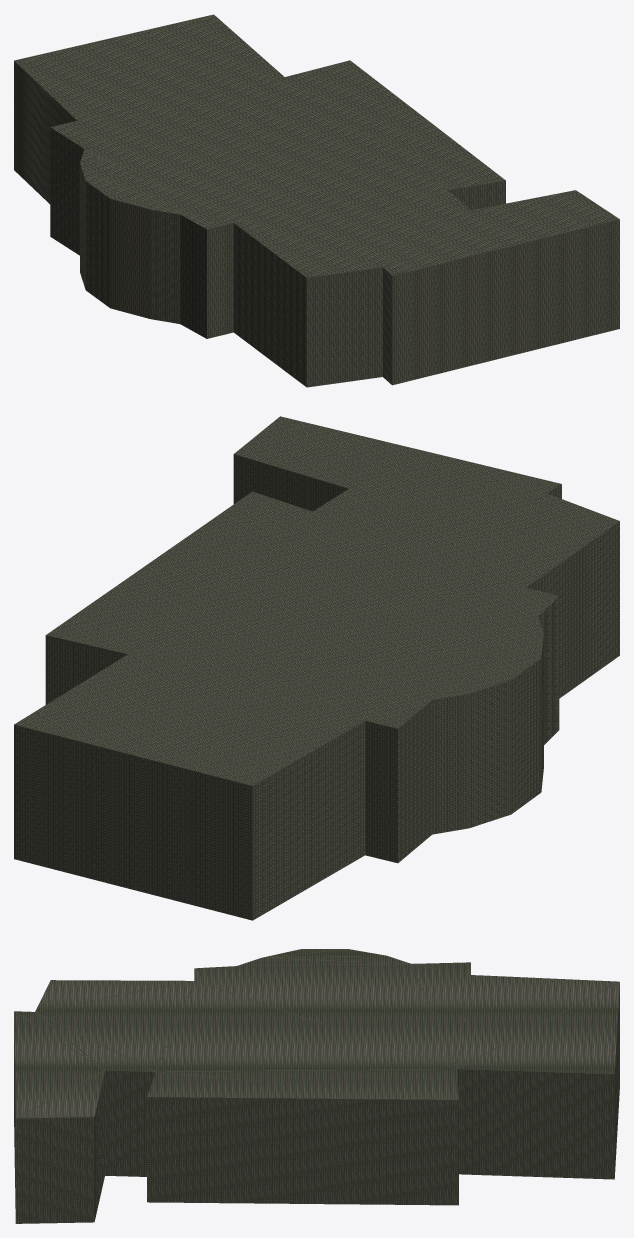
File: Mansion.fbx
3 renders of one model, top to bottom at view 1: azimuth 30°, elevation 25°; view 2: azimuth 150°, elevation 25°; view 3: azimuth 270°, elevation 25°, orthographic. The views are drawn at different scales.
Parts seen in each view (by area): view 1: Mansion; view 2: Mansion; view 3: Mansion.
Boxes of the visible parts, x1=… form: Mansion: x1=14, y1=14, x2=619, y2=387; Mansion: x1=14, y1=416, x2=619, y2=920; Mansion: x1=14, y1=949, x2=619, y2=1223.
Bounding box in the file's own units: 17245 × 5000 × 26056.
